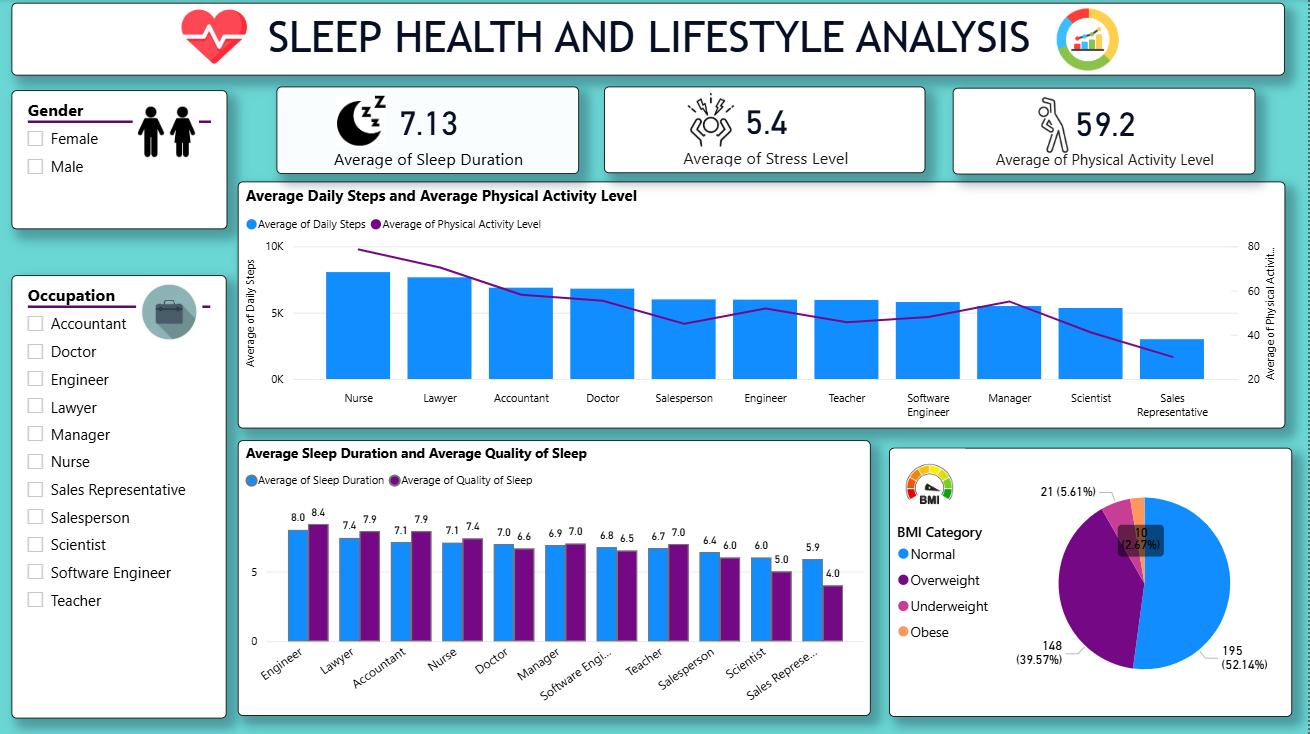

What the dashboard file says about the page in this screenshot:
{"tool":"powerbi","page":{"name":"Overview","canvas":[1280,720],"ordinal":0},"visuals":[{"type":"textbox","box":[12.2,4.1,1245.9,71],"z":0},{"type":"slicer","fields":{"Values":["Sleep_health_and_lifestyle_dataset (3).Gender"]},"box":[12.2,89.3,211,136],"z":1000},{"type":"slicer","fields":{"Values":["Sleep_health_and_lifestyle_dataset (3).Occupation"]},"box":[12.4,270.6,210.4,433.3],"z":2000},{"type":"lineStackedColumnComboChart","title":"Average Daily Steps and Average Physical Activity Level","fields":{"Category":["Sleep_health_and_lifestyle_dataset (3).Occupation"],"Y":["Avg(Sleep_health_and_lifestyle_dataset (3).Daily Steps)"],"Y2":["Avg(Sleep_health_and_lifestyle_dataset (3).Physical Activity Level)"]},"box":[233.4,178.6,1024.7,241.5],"z":3000},{"type":"card","fields":{"Values":["Avg(Sleep_health_and_lifestyle_dataset (3).Physical Activity Level)"]},"box":[933.4,87,295.6,84.6],"z":5000},{"type":"card","fields":{"Values":["Avg(Sleep_health_and_lifestyle_dataset (3).Stress Level)"]},"box":[592.4,85.8,314.7,84.6],"z":6000},{"type":"pieChart","fields":{"Category":["Sleep_health_and_lifestyle_dataset (3).BMI Category"],"Y":["CountNonNull(Sleep_health_and_lifestyle_dataset (3).BMI Category)"]},"box":[870.1,438.6,394.4,263.5],"z":7000},{"type":"clusteredColumnChart","title":"Average Sleep Duration and Average Quality of Sleep","fields":{"Y":["Avg(Sleep_health_and_lifestyle_dataset (3).Sleep Duration)","Avg(Sleep_health_and_lifestyle_dataset (3).Quality of Sleep)"],"Category":["Sleep_health_and_lifestyle_dataset (3).Occupation"]},"box":[233.4,432.2,618.9,269.9],"z":8000},{"type":"card","fields":{"Values":["Avg(Sleep_health_and_lifestyle_dataset (3).Sleep Duration)"]},"box":[271.8,85.8,295.6,85.8],"z":9000},{"type":"image","box":[157.4,0,105.9,74],"z":10000},{"type":"image","box":[114.9,268.8,102.6,74.3],"z":11000},{"type":"image","box":[125.6,88.4,74.3,83.1],"z":12000},{"type":"image","box":[325.4,79.9,58.4,79.9],"z":13000},{"type":"image","box":[616.3,84.6,157.3,65.6],"z":14000},{"type":"image","box":[870.1,397.9,79.6,153.9],"z":15000},{"type":"image","box":[1019.7,1.9,90.9,75],"z":16000},{"type":"image","box":[1001.3,89.4,59.6,66.8],"z":17000}]}

Visuals, with their boxes in screenshot pixels (x1, y1, x2, y2), scaled from the page's 1280x720 canvas onto the 1310x734 screenshot:
textbox: 12/4/1288/77
slicer - Sleep_health_and_lifestyle_dataset (3).Gender: 12/91/228/230
slicer - Sleep_health_and_lifestyle_dataset (3).Occupation: 13/276/228/718
"Average Daily Steps and Average Physical Activity Level" lineStackedColumnComboChart: 239/182/1288/428
card - Avg(Sleep_health_and_lifestyle_dataset (3).Physical Activity Level): 955/89/1258/175
card - Avg(Sleep_health_and_lifestyle_dataset (3).Stress Level): 606/87/928/174
pieChart - Sleep_health_and_lifestyle_dataset (3).BMI Category x CountNonNull(Sleep_health_and_lifestyle_dataset (3).BMI Category): 890/447/1294/716
"Average Sleep Duration and Average Quality of Sleep" clusteredColumnChart: 239/441/872/716
card - Avg(Sleep_health_and_lifestyle_dataset (3).Sleep Duration): 278/87/581/175
image: 161/0/269/75
image: 118/274/223/350
image: 129/90/205/175
image: 333/81/393/163
image: 631/86/792/153
image: 890/406/972/563
image: 1044/2/1137/78
image: 1025/91/1086/159
